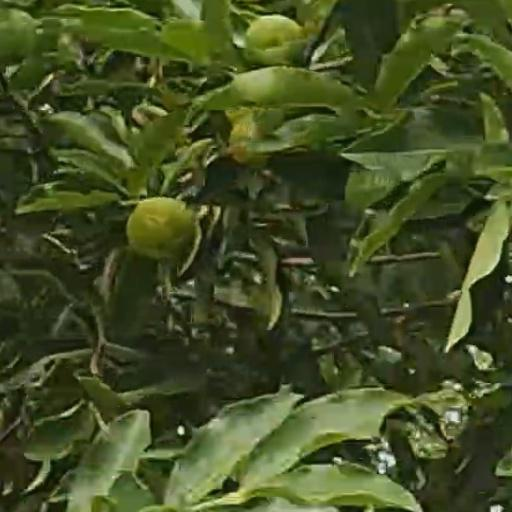acerola_verde: (126, 197, 196, 258), (247, 17, 302, 63)
